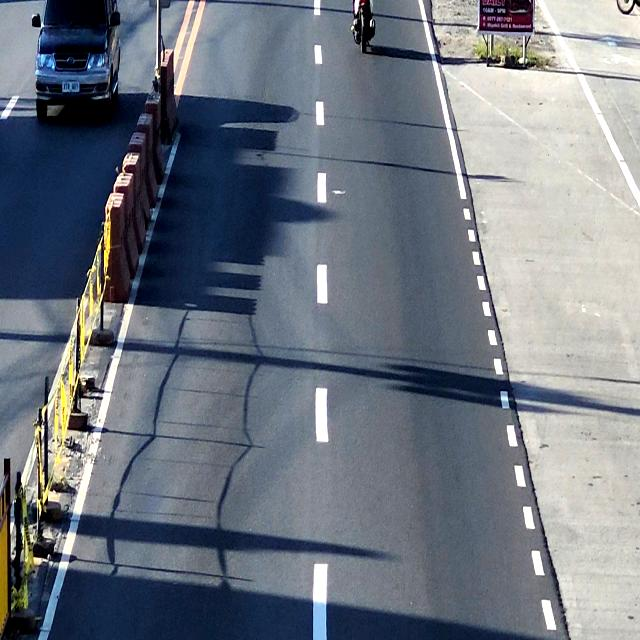Motorcycle: (351, 0, 376, 56)
